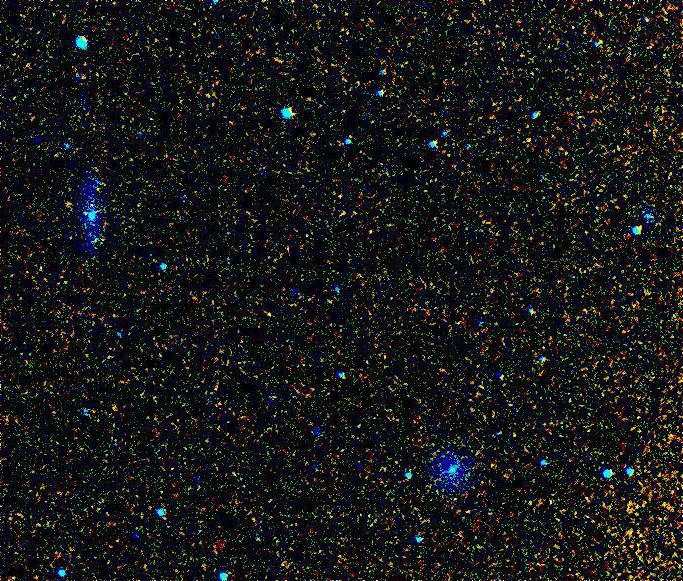star: (51, 185, 81, 215)
